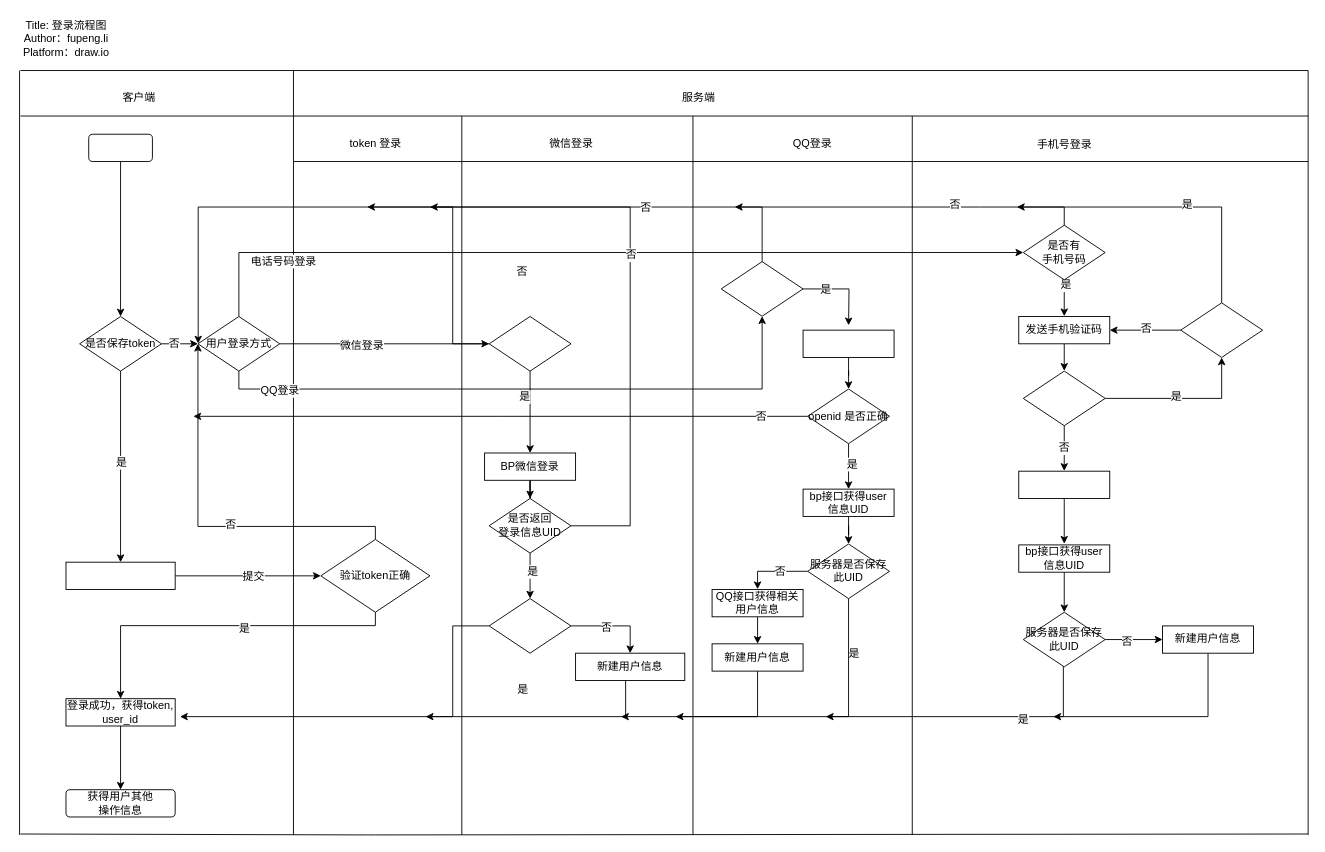
Image size: 1325x852. Some labels were removed from this diagram. The shapes that lost their labels are listed below. From the top down, each one's centre as x and y in pixels, then its label:
At (x=120, y=147): "打开APP".
At (x=761, y=288): "是否有 access token".
At (x=529, y=343): "是否有WeChatcode".
At (x=848, y=343): "QQ接口获得openid clientid".
At (x=1221, y=329): "是否选择其他方式登录".
At (x=1063, y=398): "是否超出发送临界值".
At (x=1064, y=484): "使用手机号验证码登录".
At (x=120, y=575): "获得用户token".
At (x=529, y=625): "服务器是否 保存此UID".
